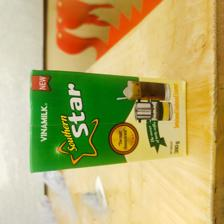NSPN_Hop: (28, 69, 186, 174)
